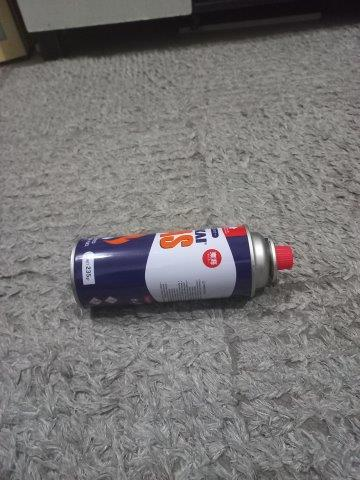kaleng: (70, 227, 296, 309)
